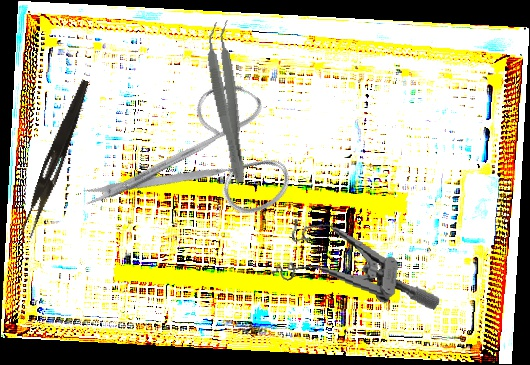Dressing Forceps: (19, 76, 92, 241)
Iris Scissors: (77, 45, 321, 293)
Speculum: (267, 216, 449, 311)
Tissue Forceps: (201, 19, 257, 185)
